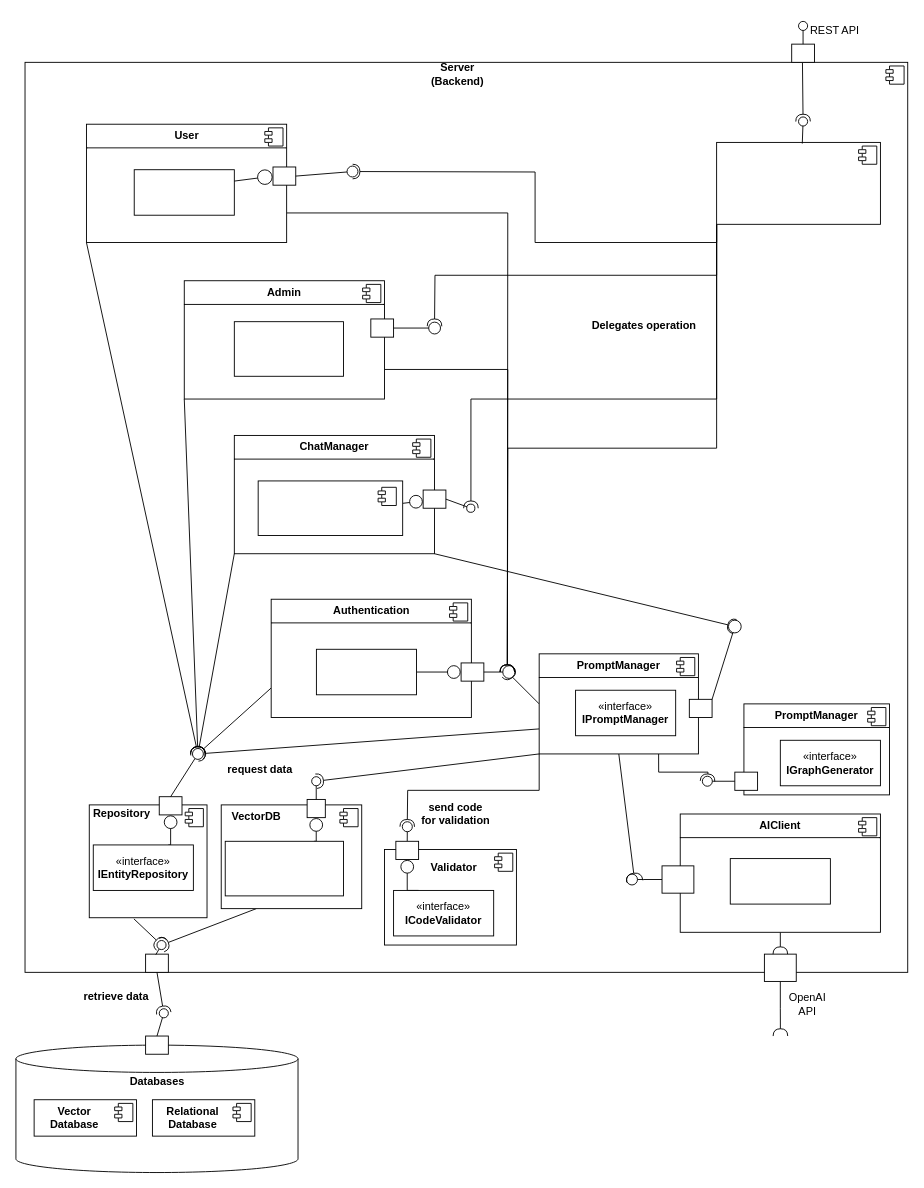
The diagram is 924 pixels wide and 1188 high, and some of its shapes have lost their labels. The box of each missing label's shape, as (x1, y1, x2, y2) in pixels:
Service Layer: (716, 142, 880, 224)
«interface» IAIClient: (729, 858, 830, 904)
«interface» IAuthManager: (315, 648, 417, 695)
«interface» IInferenceManager: (257, 480, 403, 536)
«interface» ISemanticRepository: (224, 840, 344, 896)
«interface» ISystemManager: (233, 321, 344, 376)
«interface» IUserInfoManager: (133, 169, 234, 215)
